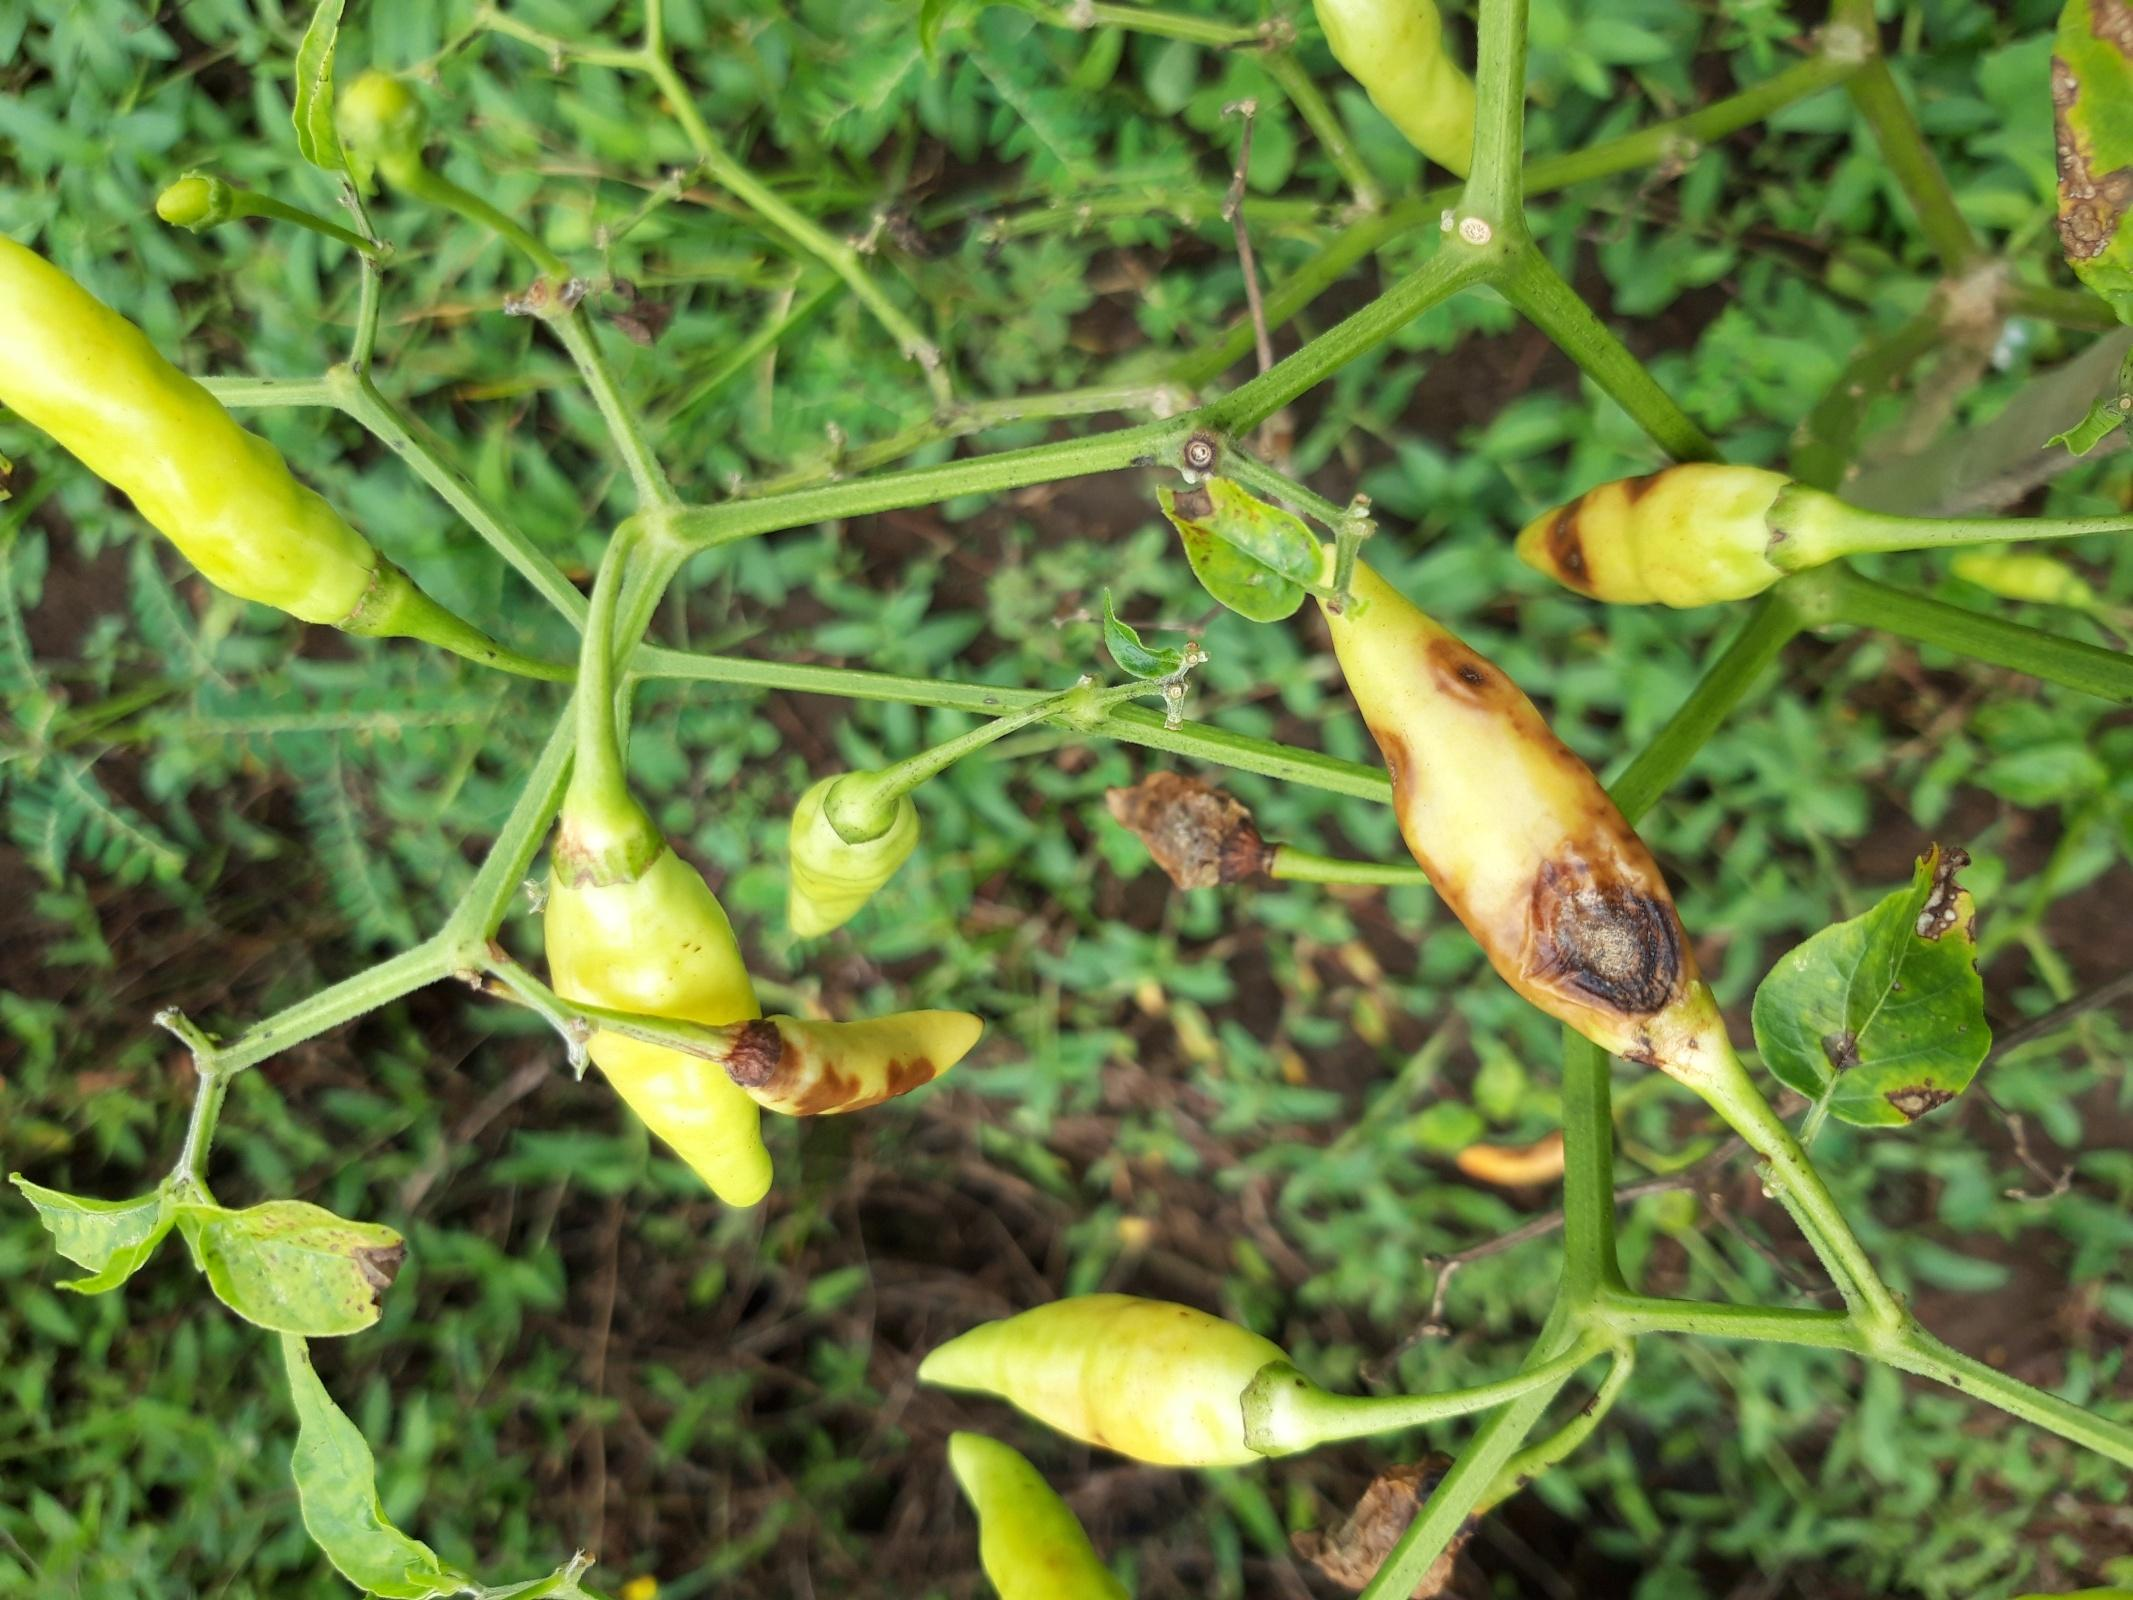antraknosa: (1319, 550, 1703, 1045), (1518, 464, 1802, 602), (723, 1003, 992, 1119), (1298, 1459, 1466, 1600), (1109, 771, 1261, 894)
cabai_normal: (2, 247, 377, 622), (551, 855, 772, 1203), (918, 1296, 1291, 1466), (950, 1439, 1130, 1593), (783, 768, 916, 945)
